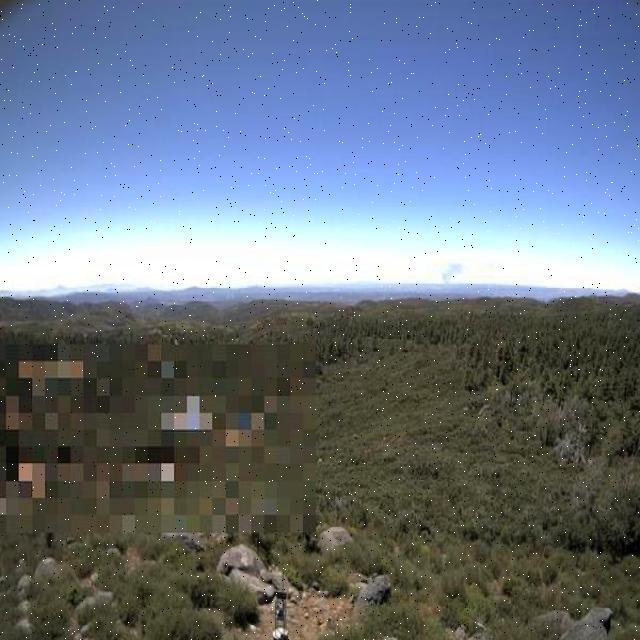smoke: (439, 258, 468, 297)
